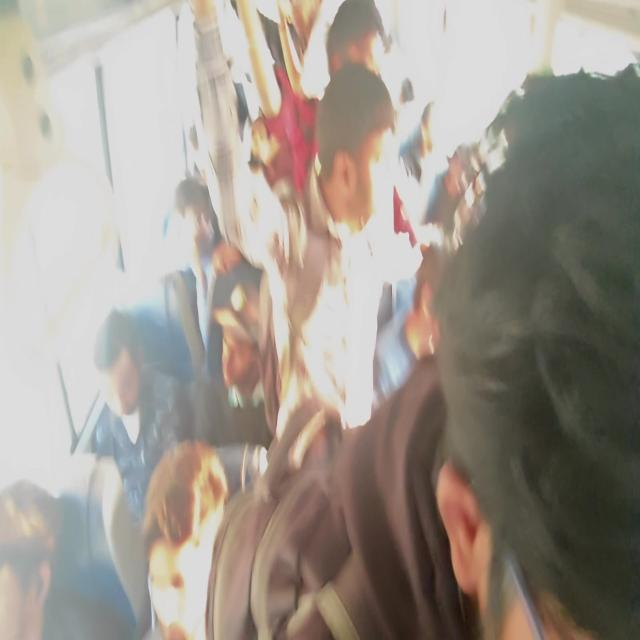person: (473, 135, 640, 640), (291, 61, 443, 238), (142, 450, 266, 624), (68, 276, 183, 436), (0, 460, 102, 627), (199, 248, 304, 396), (176, 162, 241, 274), (209, 78, 290, 156), (411, 90, 459, 173)
